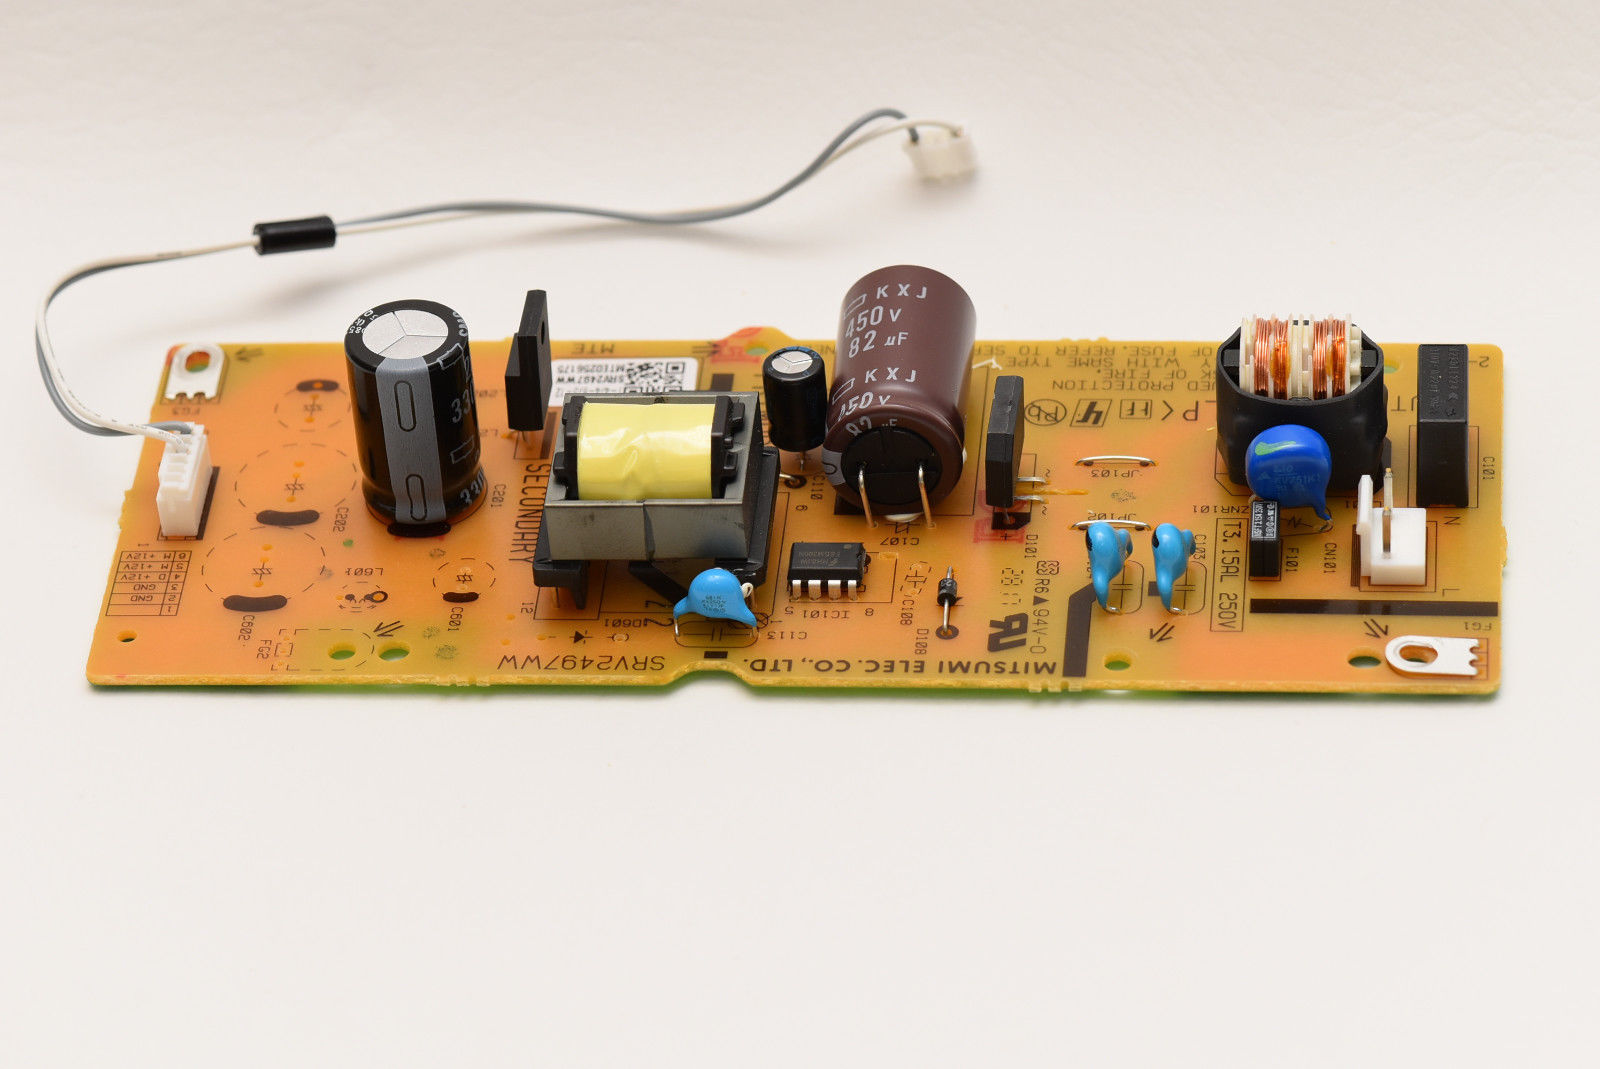capacitor: (829, 265, 977, 517), (342, 298, 489, 531), (761, 345, 828, 453)
